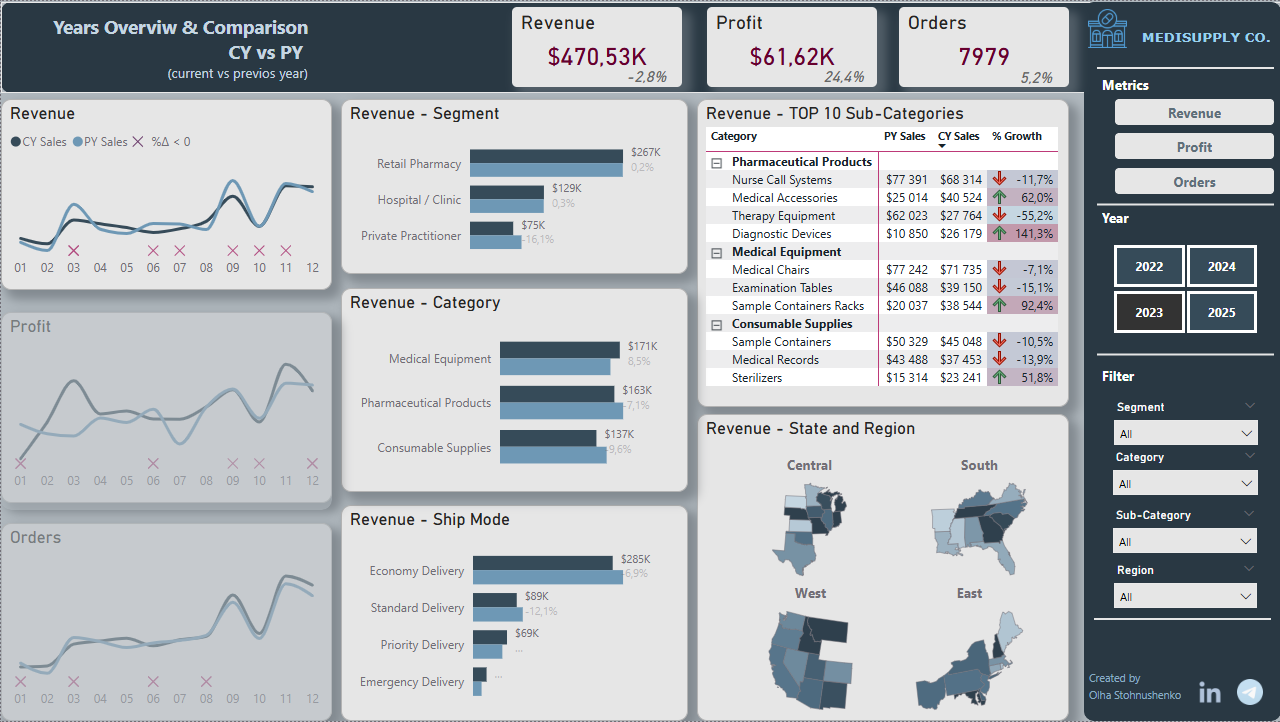

The dashboard page shown, as its layout file describes it:
{"tool":"powerbi","page":{"name":"Revenue","canvas":[1280,720],"ordinal":0},"visuals":[{"type":"shape","box":[0,1,1280,718],"z":0},{"type":"shape","box":[0,1,1280,91],"z":1000},{"type":"shape","box":[1082.6,1,197.4,718.8],"z":2000},{"type":"lineChart","title":"Revenue","fields":{"Category":["Orders.Short_month_order"],"Y":["Sum(Orders.Sales)","Orders.PY Sales"],"Y2":["Orders.Marker Below PY"]},"box":[0,98,331,191],"z":3000},{"type":"card","title":"Revenue","fields":{"Values":["Sum(Orders.Sales)"]},"box":[511,6,170,80],"z":4000},{"type":"slicer","fields":{"Values":["Orders.Category"]},"box":[1102.4,444.2,164.5,58.2],"z":5000},{"type":"slicer","fields":{"Values":["Orders.Sub-Category"]},"box":[1102.4,502.5,163.6,54.5],"z":6000},{"type":"slicer","fields":{"Values":["Orders.Segment"]},"box":[1103.3,394.3,163.6,56.4],"z":7000},{"type":"card","title":"Profit","fields":{"Values":["Sum(Orders.Profit)"]},"box":[706,6,170,80],"z":8000},{"type":"card","title":"Orders","fields":{"Values":["Sum(Orders.Quantity)"]},"box":[898,6,170,80],"z":9000},{"type":"lineChart","title":"Orders","fields":{"Category":["Orders.Short_month_order"],"Y":["Sum(Orders.Quantity)","Orders.PY Quantity"],"Y2":["Orders.Marker Ord<PY"]},"box":[0,522.1,331.3,197.9],"z":10000},{"type":"shape","box":[136,314,331,198],"z":11000},{"type":"image","box":[1087.2,7.2,38.5,39.4],"z":12000},{"type":"textbox","box":[1135.5,22.4,144.2,27.8],"z":13000},{"type":"shape","box":[1096.1,197,177.3,12.5],"z":14000},{"type":"shape","box":[1096.1,60.9,177.3,12.5],"z":15000},{"type":"shape","box":[1096.2,347.2,177,12.6],"z":16000},{"type":"slicer","fields":{"Values":["Date.Year"]},"box":[1087.2,237.3,192.5,102.1],"z":17000},{"type":"textbox","box":[1096.1,69.9,144.2,27.8],"z":18000},{"type":"textbox","box":[1096.1,203.3,144.2,27.8],"z":19000},{"type":"textbox","box":[1096.1,360.9,144.2,27.8],"z":20000},{"type":"clusteredBarChart","title":"Revenue - Segment","fields":{"Y":["Sum(Orders.Sales)","Orders.PY Sales"],"Category":["Orders.Segment"]},"box":[340,98,347,175],"z":21000},{"type":"pivotTable","title":"Revenue - TOP 10 Sub-Categories ","fields":{"Rows":["Orders.Category","Orders.Sub-Category"],"Values":["Orders.PY Sales","Sum(Orders.Sales)","Orders.% Rev Growth"]},"box":[696,98,372,308],"z":22000},{"type":"clusteredBarChart","title":"Revenue - Ship Mode","fields":{"Y":["Sum(Orders.Sales)","Orders.PY Sales"],"Category":["Orders.Ship Mode"]},"box":[340,504,347,216],"z":23000},{"type":"actionButton","box":[1114,97.6,159.4,26],"z":24000},{"type":"actionButton","box":[1114,131.6,159.4,26],"z":25000},{"type":"actionButton","box":[1114,167.5,159.4,26],"z":26000},{"type":"textbox","box":[11,8,301,77],"z":27000},{"type":"shapeMap","title":"Revenue - State and Region","fields":{"Value":["Sum(Orders.Sales)"],"Series":["Orders.Region"],"Category":["Orders.State"]},"box":[696,413,372,307],"z":28000},{"type":"slicer","fields":{"Values":["Orders.Region"]},"box":[1103,557.4,163.4,54.5],"z":29000},{"type":"textbox","box":[1082.6,662.4,138.1,57.4],"z":30000},{"type":"image","box":[1190.5,677.9,35,26.3],"z":31000},{"type":"image","box":[1231.4,677.9,35,26.3],"z":32000},{"type":"shape","box":[1093.3,611.8,177,12.6],"z":33000},{"type":"clusteredBarChart","title":"Revenue - Category","fields":{"Y":["Sum(Orders.Sales)","Orders.PY Sales"],"Category":["Orders.Category"]},"box":[340,287,347,204],"z":34000},{"type":"shapeMap","fields":{"Category":["Orders.State"],"Value":["Orders.% Rev Growth"]},"box":[730.5,450.3,156.6,134.2],"z":35000},{"type":"shapeMap","fields":{"Category":["Orders.State"],"Value":["Orders.% Rev Growth"]},"box":[880.2,450.3,177,134.2],"z":36000},{"type":"shapeMap","fields":{"Category":["Orders.State"],"Value":["Orders.% Rev Growth"]},"box":[720.7,577.8,177,141],"z":37000},{"type":"shapeMap","fields":{"Category":["Orders.State"],"Value":["Orders.% Rev Growth"]},"box":[880.2,577.8,177,141],"z":38000},{"type":"shapeMap","fields":{"Category":["Orders.State"],"Value":["Orders.% Rev Growth"]},"box":[890,450,177,134],"z":39000},{"type":"card","fields":{"Values":["Orders.% Rev Growth"]},"box":[609,61,72,24],"z":40000},{"type":"card","title":"Revenue","fields":{"Values":["Orders.% Profit Growth"]},"box":[809,61,67,24],"z":41000},{"type":"card","title":"Revenue","fields":{"Values":["Orders.% Orders Growth"]},"box":[1001,62,67,24],"z":42000},{"type":"lineChart","title":"Profit","fields":{"Category":["Orders.Short_month_order"],"Y":["Sum(Orders.Profit)","Orders.PY Profit"],"Y2":["Orders.Marker Pr<PY"]},"box":[0,311,331,191],"z":43000},{"type":"shape","box":[0,522,331,198],"z":44000},{"type":"shape","box":[0,311,331,198],"z":45000}]}

Visuals, with their boxes in screenshot pixels (x1, y1, x2, y2), scaled from the page's 1280x720 canvas onto the 1280x722 screenshot:
shape: x1=0, y1=1, x2=1279, y2=721
shape: x1=0, y1=1, x2=1279, y2=92
shape: x1=1083, y1=1, x2=1279, y2=721
"Revenue" lineChart: x1=0, y1=98, x2=331, y2=290
"Revenue" card: x1=511, y1=6, x2=681, y2=86
slicer - Orders.Category: x1=1102, y1=445, x2=1267, y2=504
slicer - Orders.Sub-Category: x1=1102, y1=504, x2=1266, y2=559
slicer - Orders.Segment: x1=1103, y1=395, x2=1267, y2=452
"Profit" card: x1=706, y1=6, x2=876, y2=86
"Orders" card: x1=898, y1=6, x2=1068, y2=86
"Orders" lineChart: x1=0, y1=524, x2=331, y2=721
shape: x1=136, y1=315, x2=467, y2=513
image: x1=1087, y1=7, x2=1126, y2=47
textbox: x1=1136, y1=22, x2=1279, y2=50
shape: x1=1096, y1=198, x2=1273, y2=210
shape: x1=1096, y1=61, x2=1273, y2=74
shape: x1=1096, y1=348, x2=1273, y2=361
slicer - Date.Year: x1=1087, y1=238, x2=1279, y2=340
textbox: x1=1096, y1=70, x2=1240, y2=98
textbox: x1=1096, y1=204, x2=1240, y2=232
textbox: x1=1096, y1=362, x2=1240, y2=390
"Revenue - Segment" clusteredBarChart: x1=340, y1=98, x2=687, y2=274
"Revenue - TOP 10 Sub-Categories " pivotTable: x1=696, y1=98, x2=1068, y2=407
"Revenue - Ship Mode" clusteredBarChart: x1=340, y1=505, x2=687, y2=721
actionButton: x1=1114, y1=98, x2=1273, y2=124
actionButton: x1=1114, y1=132, x2=1273, y2=158
actionButton: x1=1114, y1=168, x2=1273, y2=194
textbox: x1=11, y1=8, x2=312, y2=85
"Revenue - State and Region" shapeMap: x1=696, y1=414, x2=1068, y2=721
slicer - Orders.Region: x1=1103, y1=559, x2=1266, y2=614
textbox: x1=1083, y1=664, x2=1221, y2=721
image: x1=1190, y1=680, x2=1226, y2=706
image: x1=1231, y1=680, x2=1266, y2=706
shape: x1=1093, y1=613, x2=1270, y2=626
"Revenue - Category" clusteredBarChart: x1=340, y1=288, x2=687, y2=492
shapeMap - Orders.State x Orders.% Rev Growth: x1=730, y1=452, x2=887, y2=586
shapeMap - Orders.State x Orders.% Rev Growth: x1=880, y1=452, x2=1057, y2=586
shapeMap - Orders.State x Orders.% Rev Growth: x1=721, y1=579, x2=898, y2=721
shapeMap - Orders.State x Orders.% Rev Growth: x1=880, y1=579, x2=1057, y2=721
shapeMap - Orders.State x Orders.% Rev Growth: x1=890, y1=451, x2=1067, y2=586
card - Orders.% Rev Growth: x1=609, y1=61, x2=681, y2=85
"Revenue" card: x1=809, y1=61, x2=876, y2=85
"Revenue" card: x1=1001, y1=62, x2=1068, y2=86
"Profit" lineChart: x1=0, y1=312, x2=331, y2=503
shape: x1=0, y1=523, x2=331, y2=721
shape: x1=0, y1=312, x2=331, y2=510
